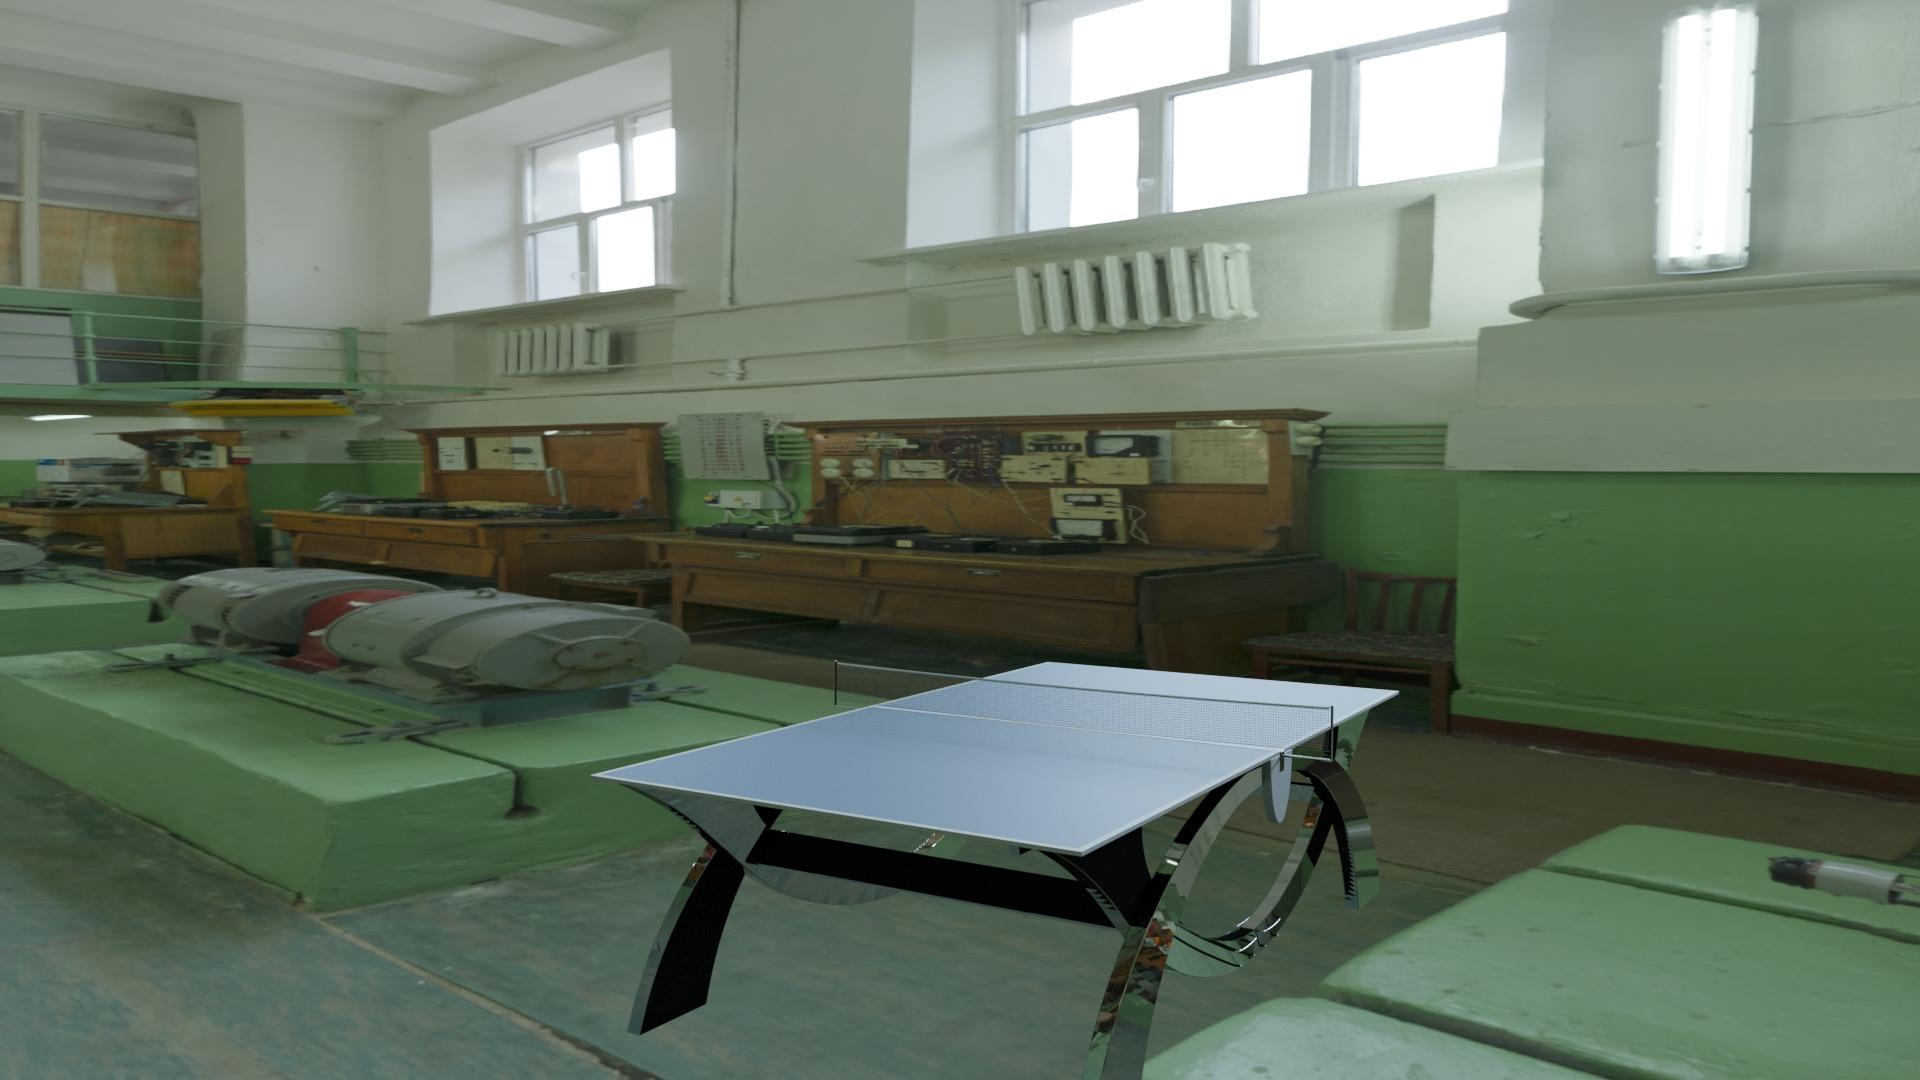table: (600, 663, 1393, 849)
